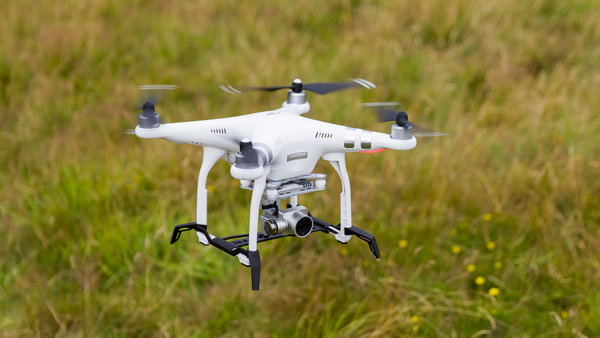drone: (121, 77, 450, 294)
